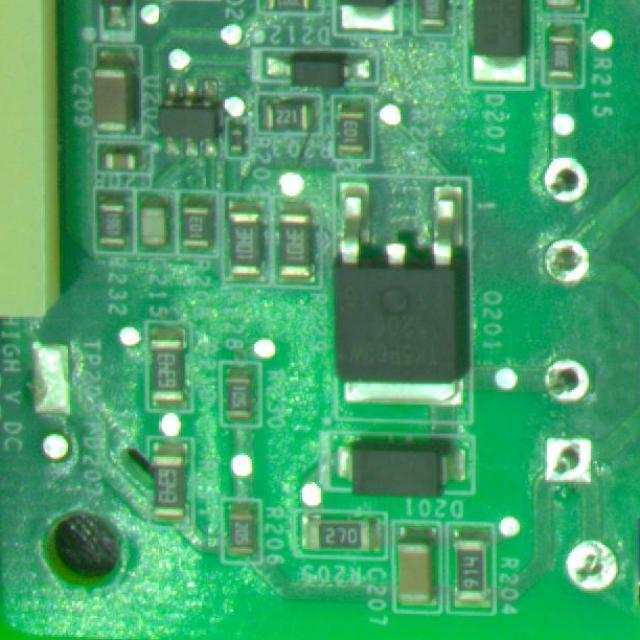Insufficient solder: (524, 352, 604, 416), (526, 232, 602, 295), (524, 433, 600, 494), (566, 540, 624, 598), (536, 154, 586, 210)
